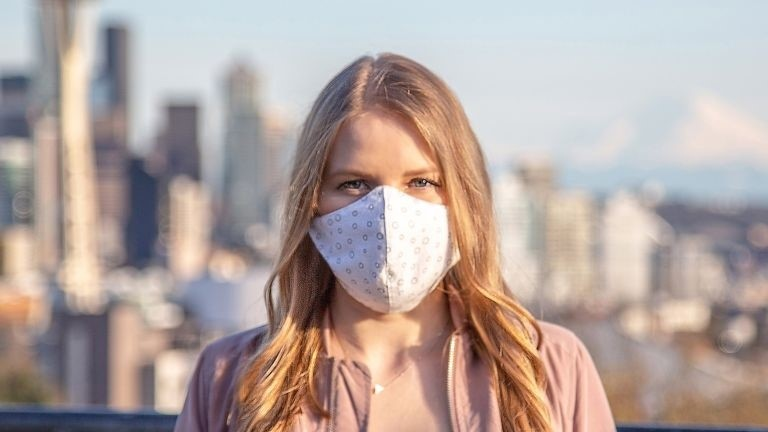face_with_mask: (303, 95, 489, 317)
